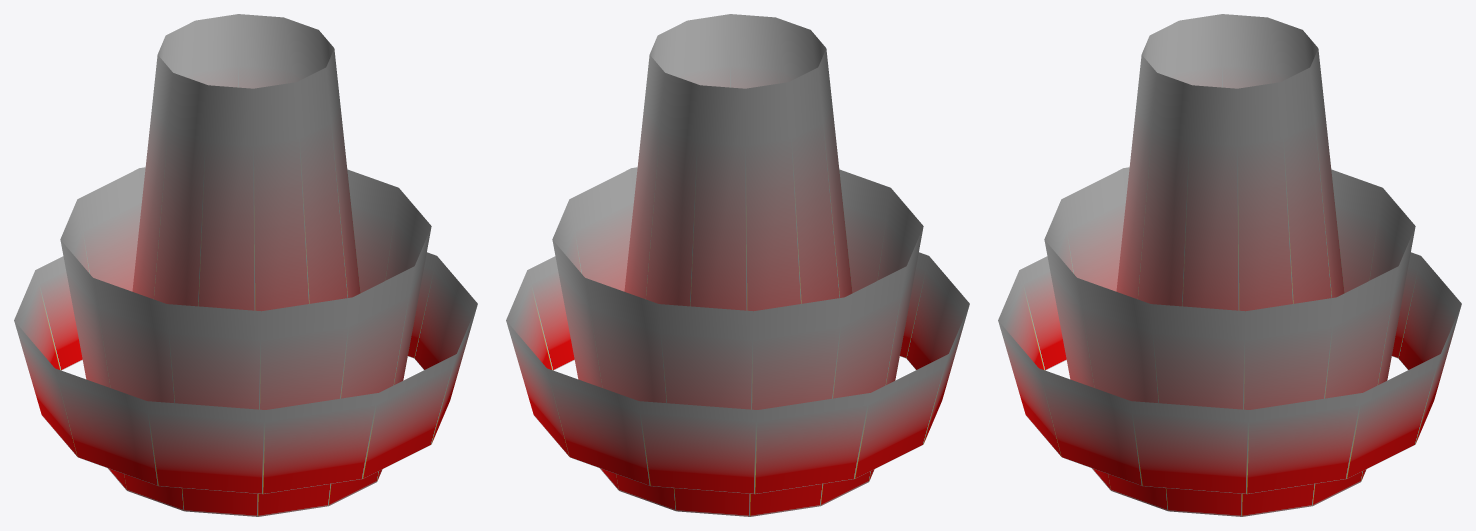
File: PortalFade01_Art.fbx
The picture shows the model from 3 angles, left to right: view 1: azimuth 30°, elevation 25°; view 2: azimuth 150°, elevation 25°; view 3: azimuth 270°, elevation 25°; orthographic projection.
Visible parts, largest first — view 1: PortalFade01_Art; view 2: PortalFade01_Art; view 3: PortalFade01_Art.
Part boxes in pixels (<box>): PortalFade01_Art: <box>14,14,477,516</box>; PortalFade01_Art: <box>506,14,969,516</box>; PortalFade01_Art: <box>998,14,1461,516</box>.
Size of the model in its own units: 1.66 by 1.59 by 1.66.
